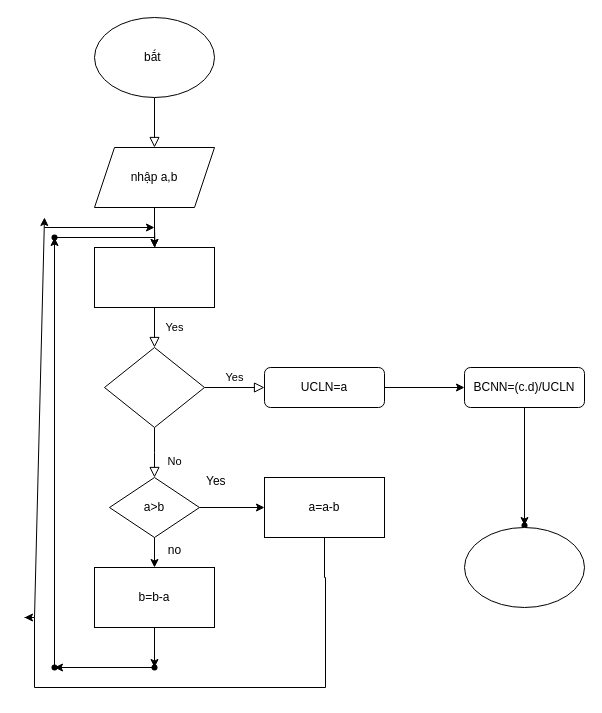
The diagram is 602 pixels wide and 713 high, and some of its shapes have lost their labels. Each missing label, with the box of its shape:
a=b: (104, 346, 204, 428)
c=a d=b: (94, 246, 214, 308)
KẾT THÚC: (464, 526, 584, 608)
